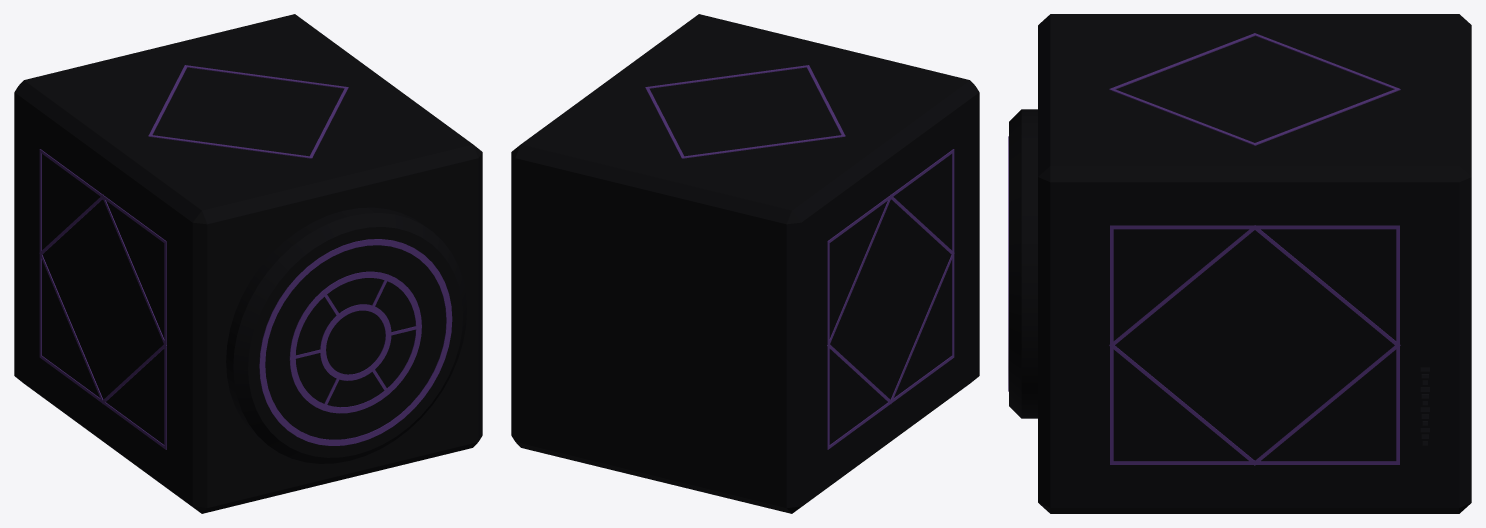
The model's file is z1_field.obj.
3 views of the same model, side by side, from view 1: azimuth 30°, elevation 25°; view 2: azimuth 150°, elevation 25°; view 3: azimuth 270°, elevation 25° (orthographic). The views are drawn at different scales.
Parts seen in each view (by area): view 1: z1_field; view 2: z1_field; view 3: z1_field.
Part boxes in pixels (x1=…): z1_field: x1=14, y1=14, x2=482, y2=513; z1_field: x1=511, y1=14, x2=979, y2=513; z1_field: x1=1008, y1=14, x2=1471, y2=513.
Bounding box in the file's own units: 1.25 × 1.25 × 1.5.
